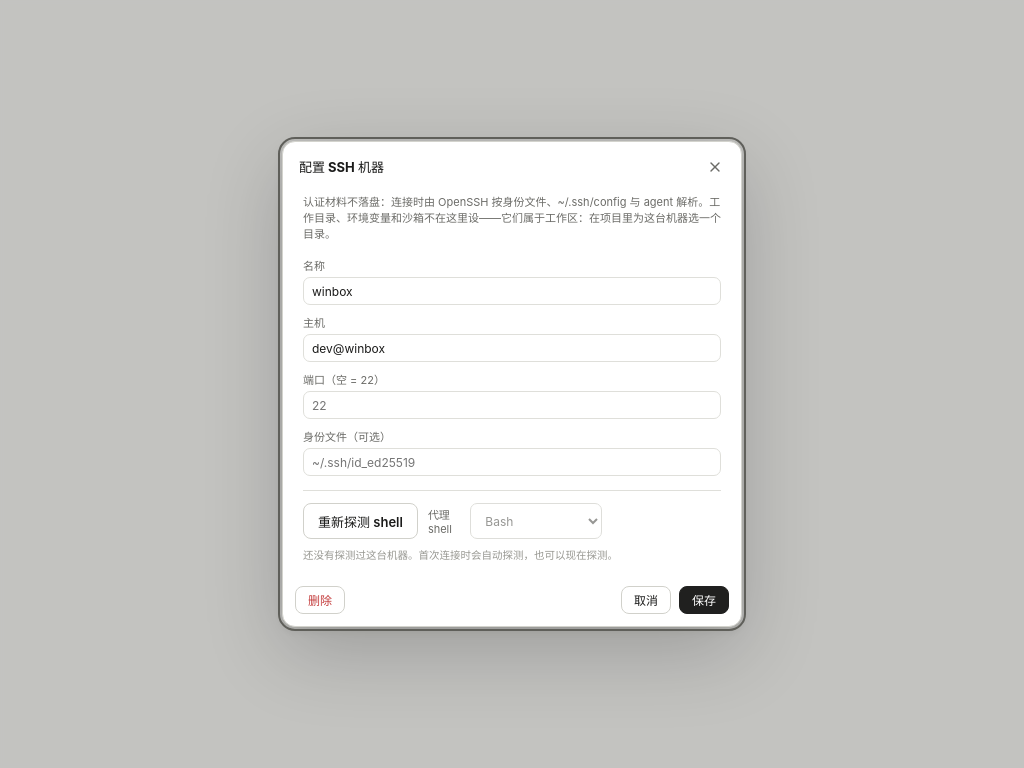
Test: a machine's shells in its settings › says a machine has not been probed and shows why a probe failed
Expected: the text "还没有探测过这台机器。首次连接时会自动探测，也可以现在探测。" is shown, [303,549,618,562]
Expected: the dropdown labelled "代理 shell" is disabled, [470,503,602,539]
Click the button "重新探测 shell": (360, 521) [303,503,418,539]
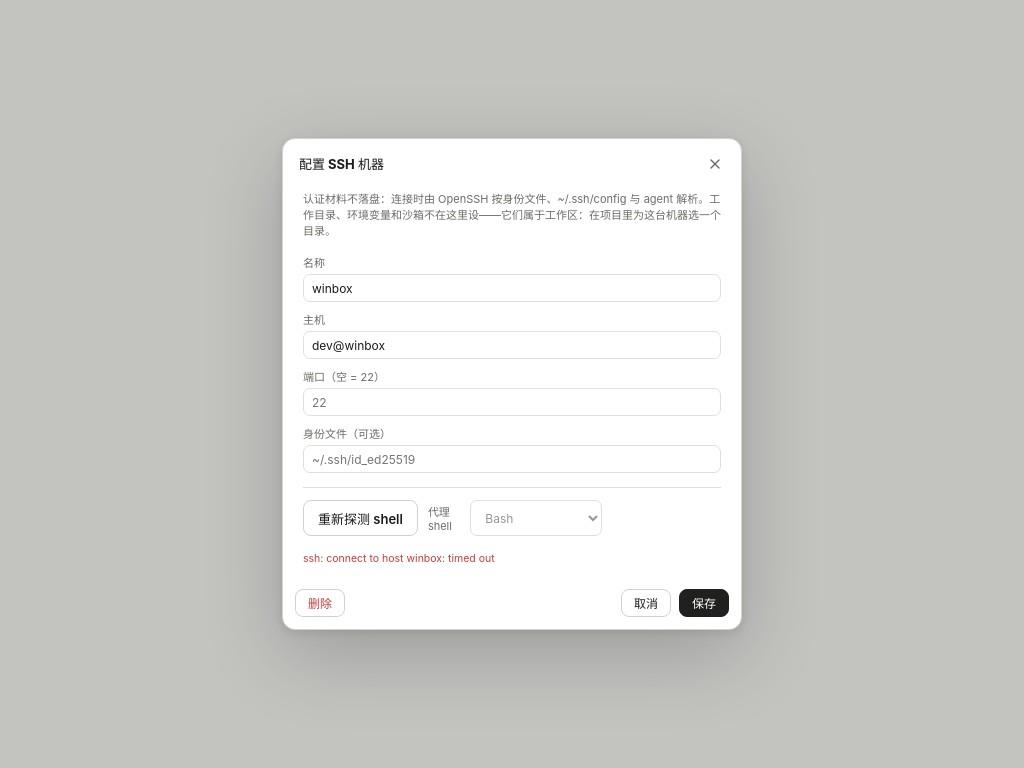
Expected: the message shows "timed out", [303,552,495,565]
